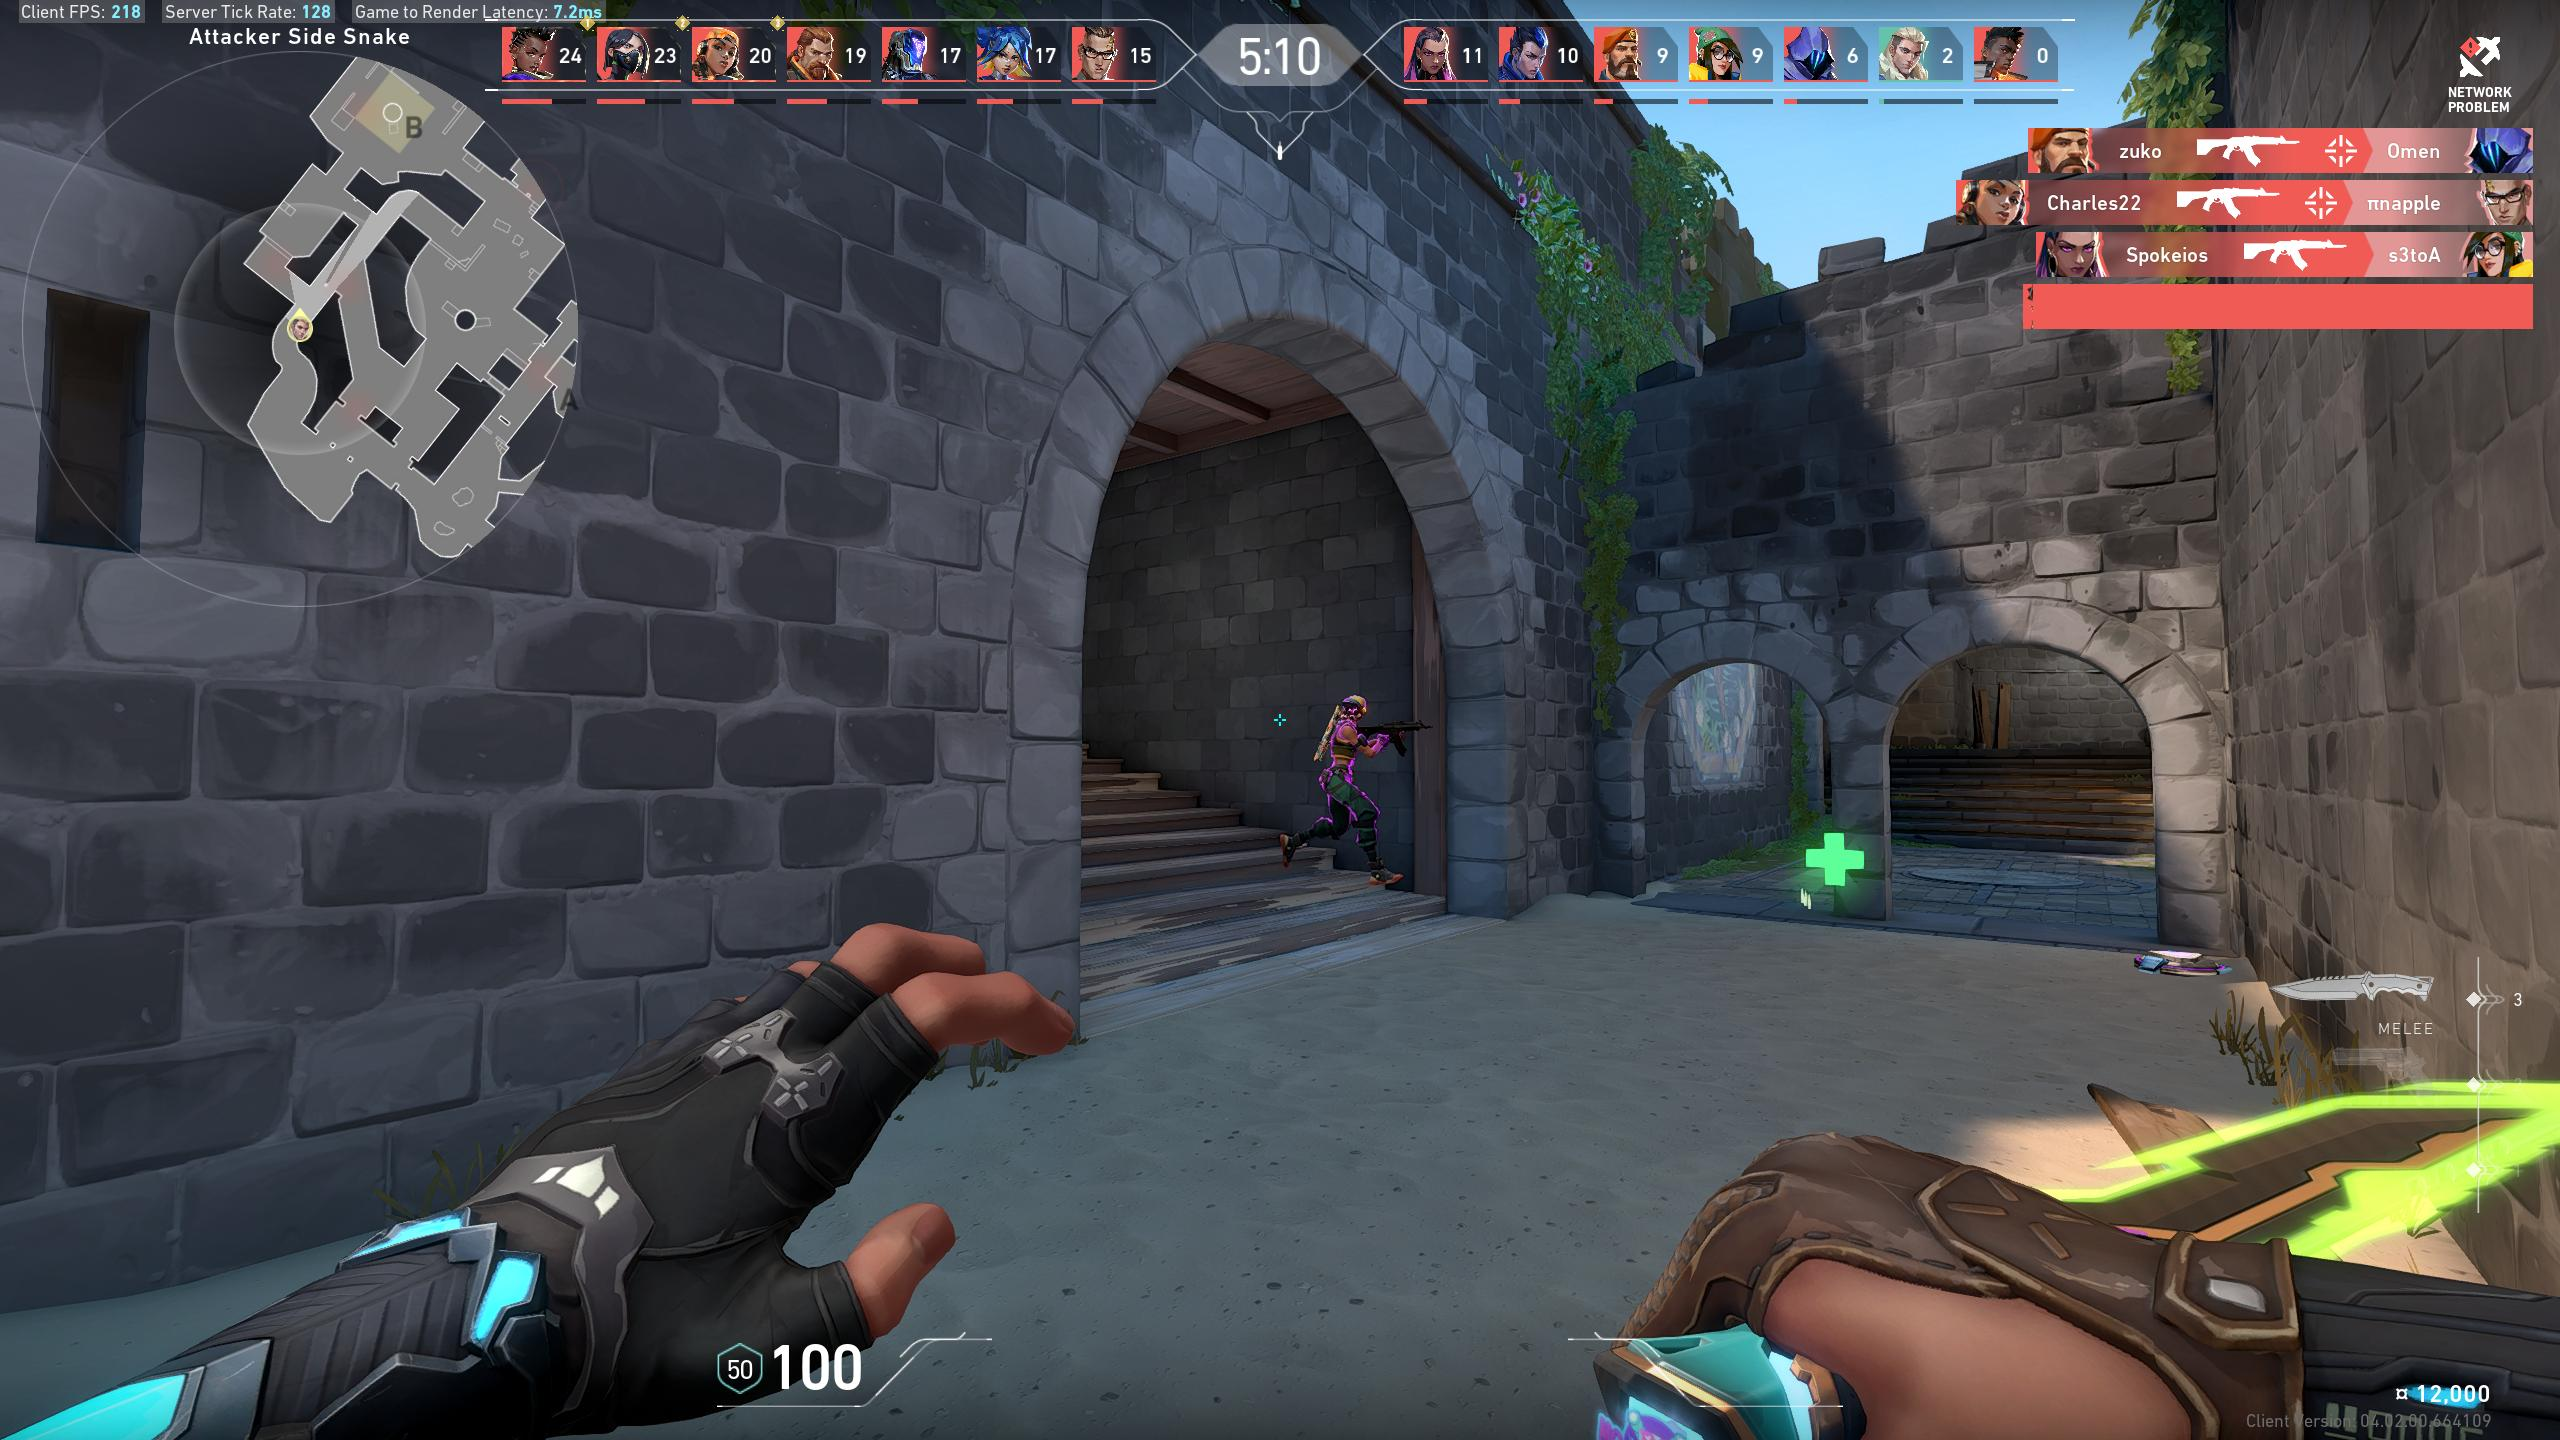enemyBody: (1340, 726, 1350, 775)
enemyHead: (1349, 700, 1361, 714)
